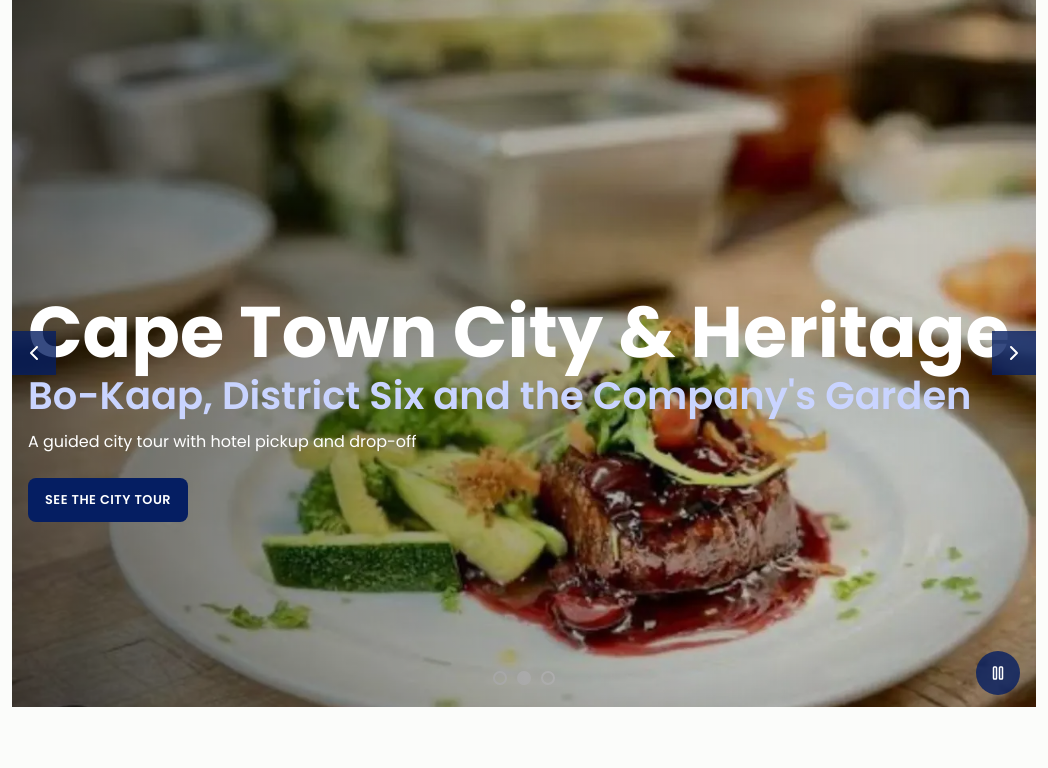
it: homepage hero › rotates until the visitor presses pause, and stays paused until play
The width and height of the screenshot is (1048, 768).
Click the button named "Pause slideshow": (998, 672) x1=976 y1=650 x2=1020 y2=694
Wait 20000 ms
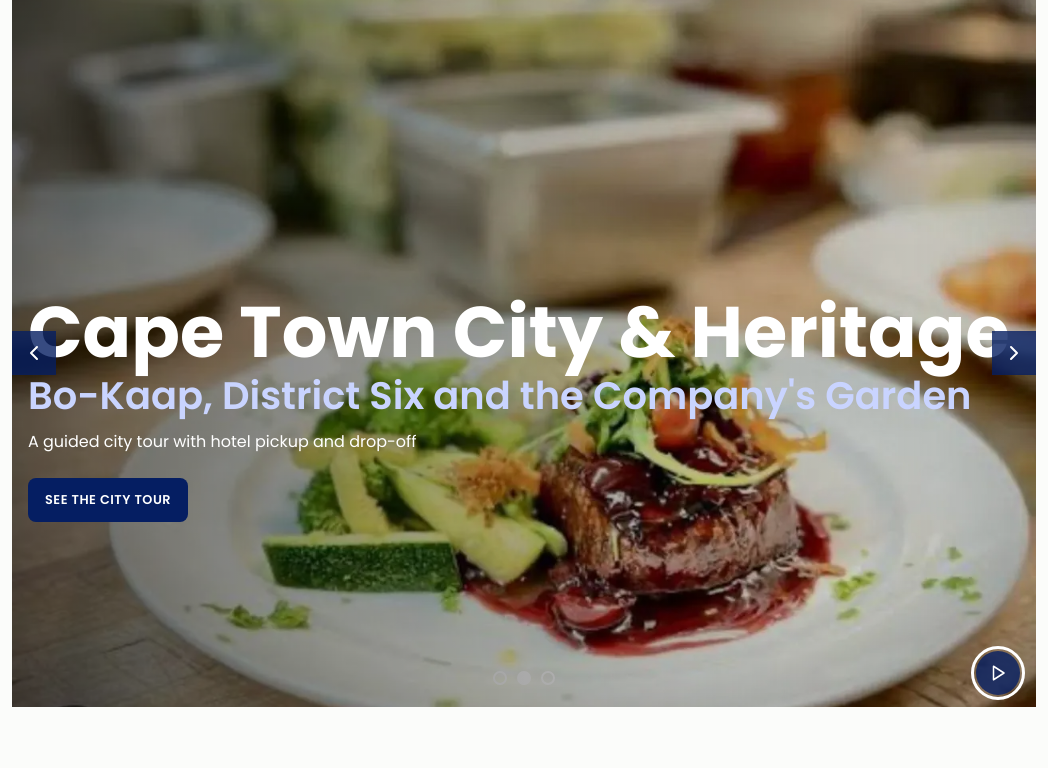
Check: the button named "Play slideshow" is shown, box x1=976 y1=650 x2=1020 y2=694
